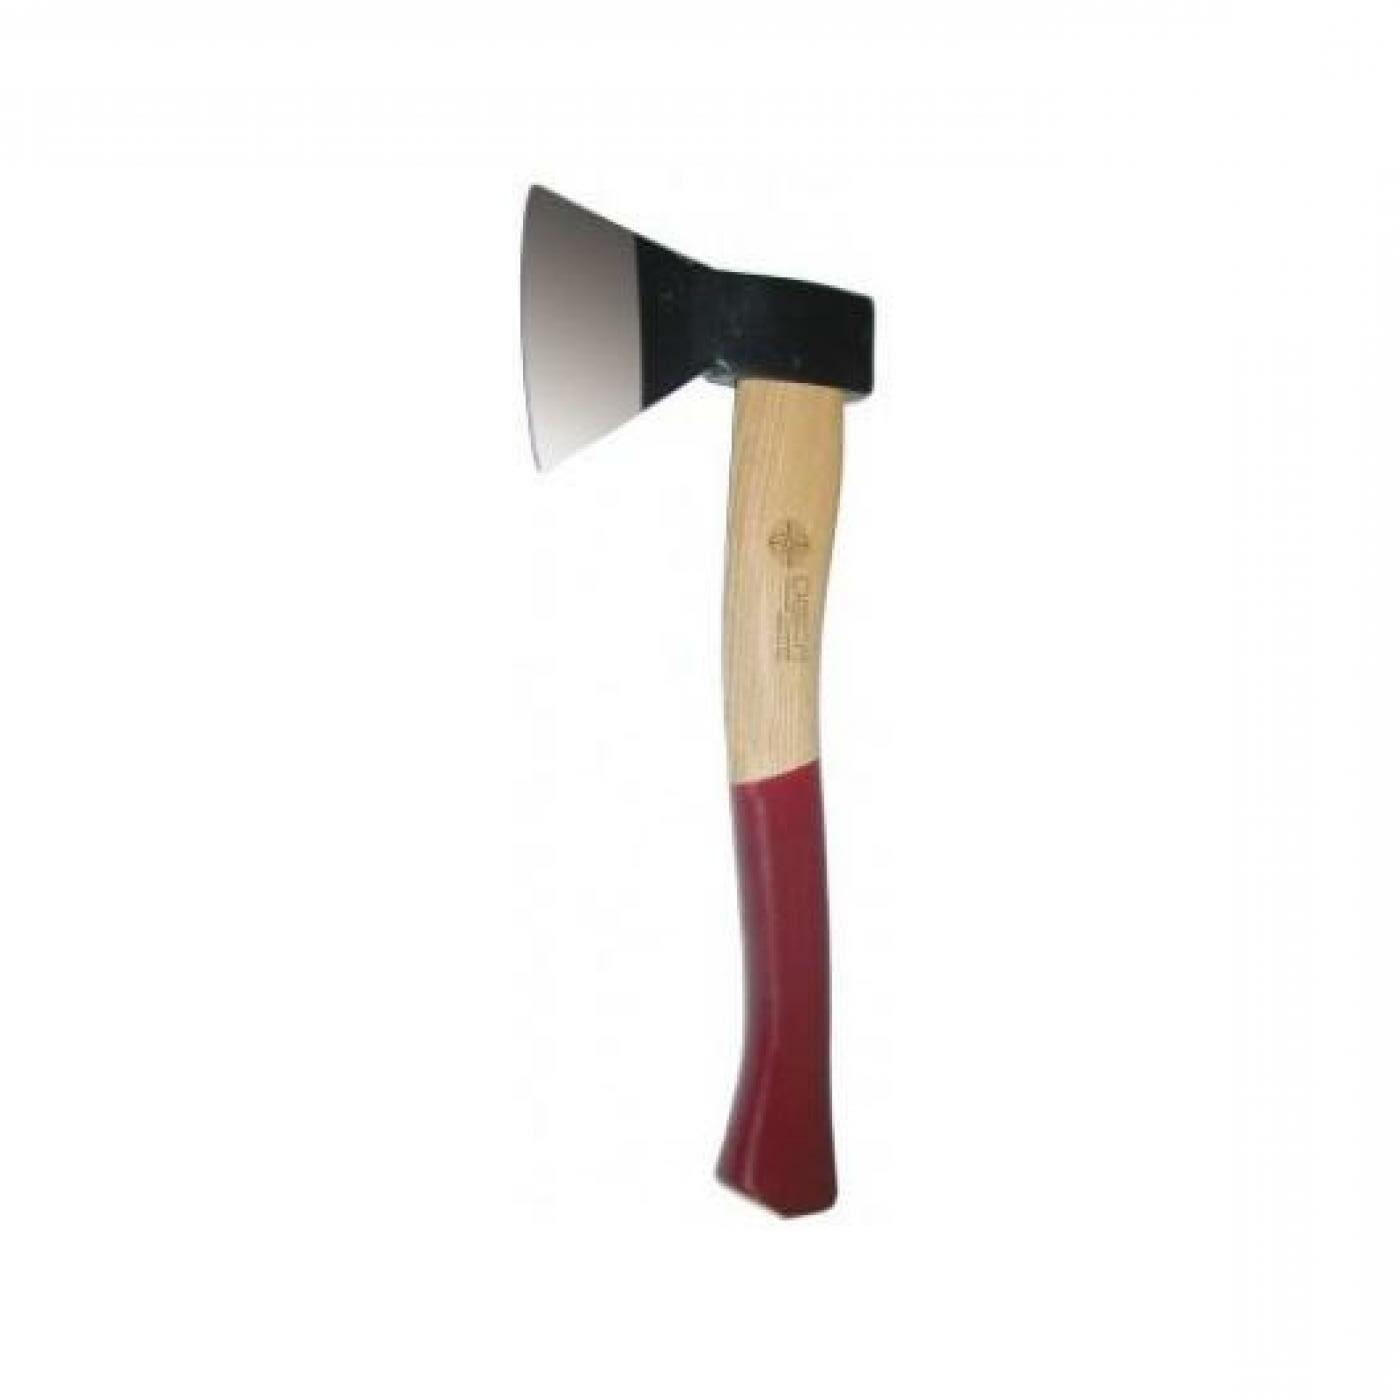machado: (521, 187, 874, 1217)
